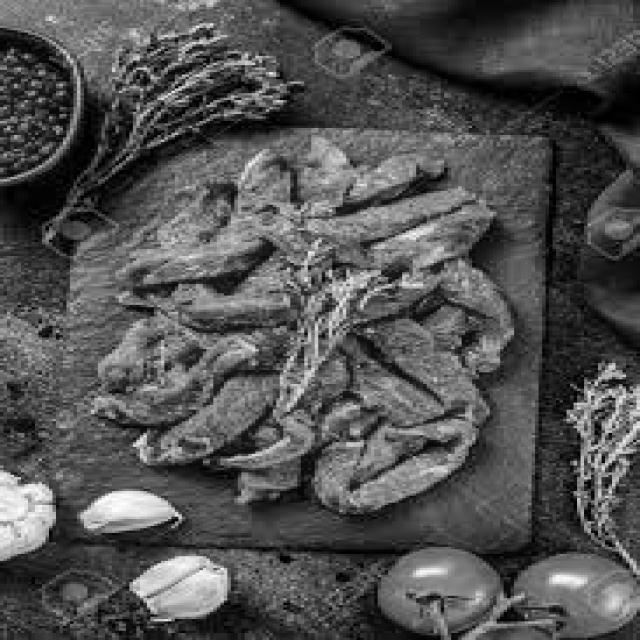thit mieng: (115, 180, 482, 472)
